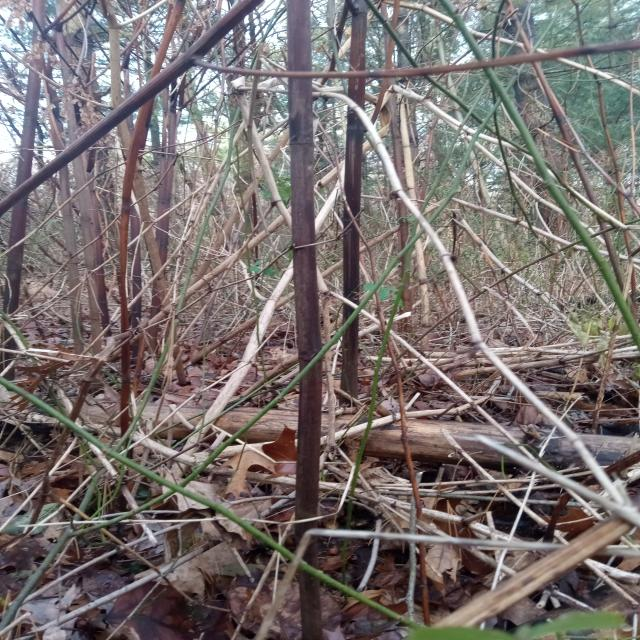bushes: (1, 1, 639, 638)
knotweed-stems: (286, 1, 326, 558), (339, 64, 365, 408)
